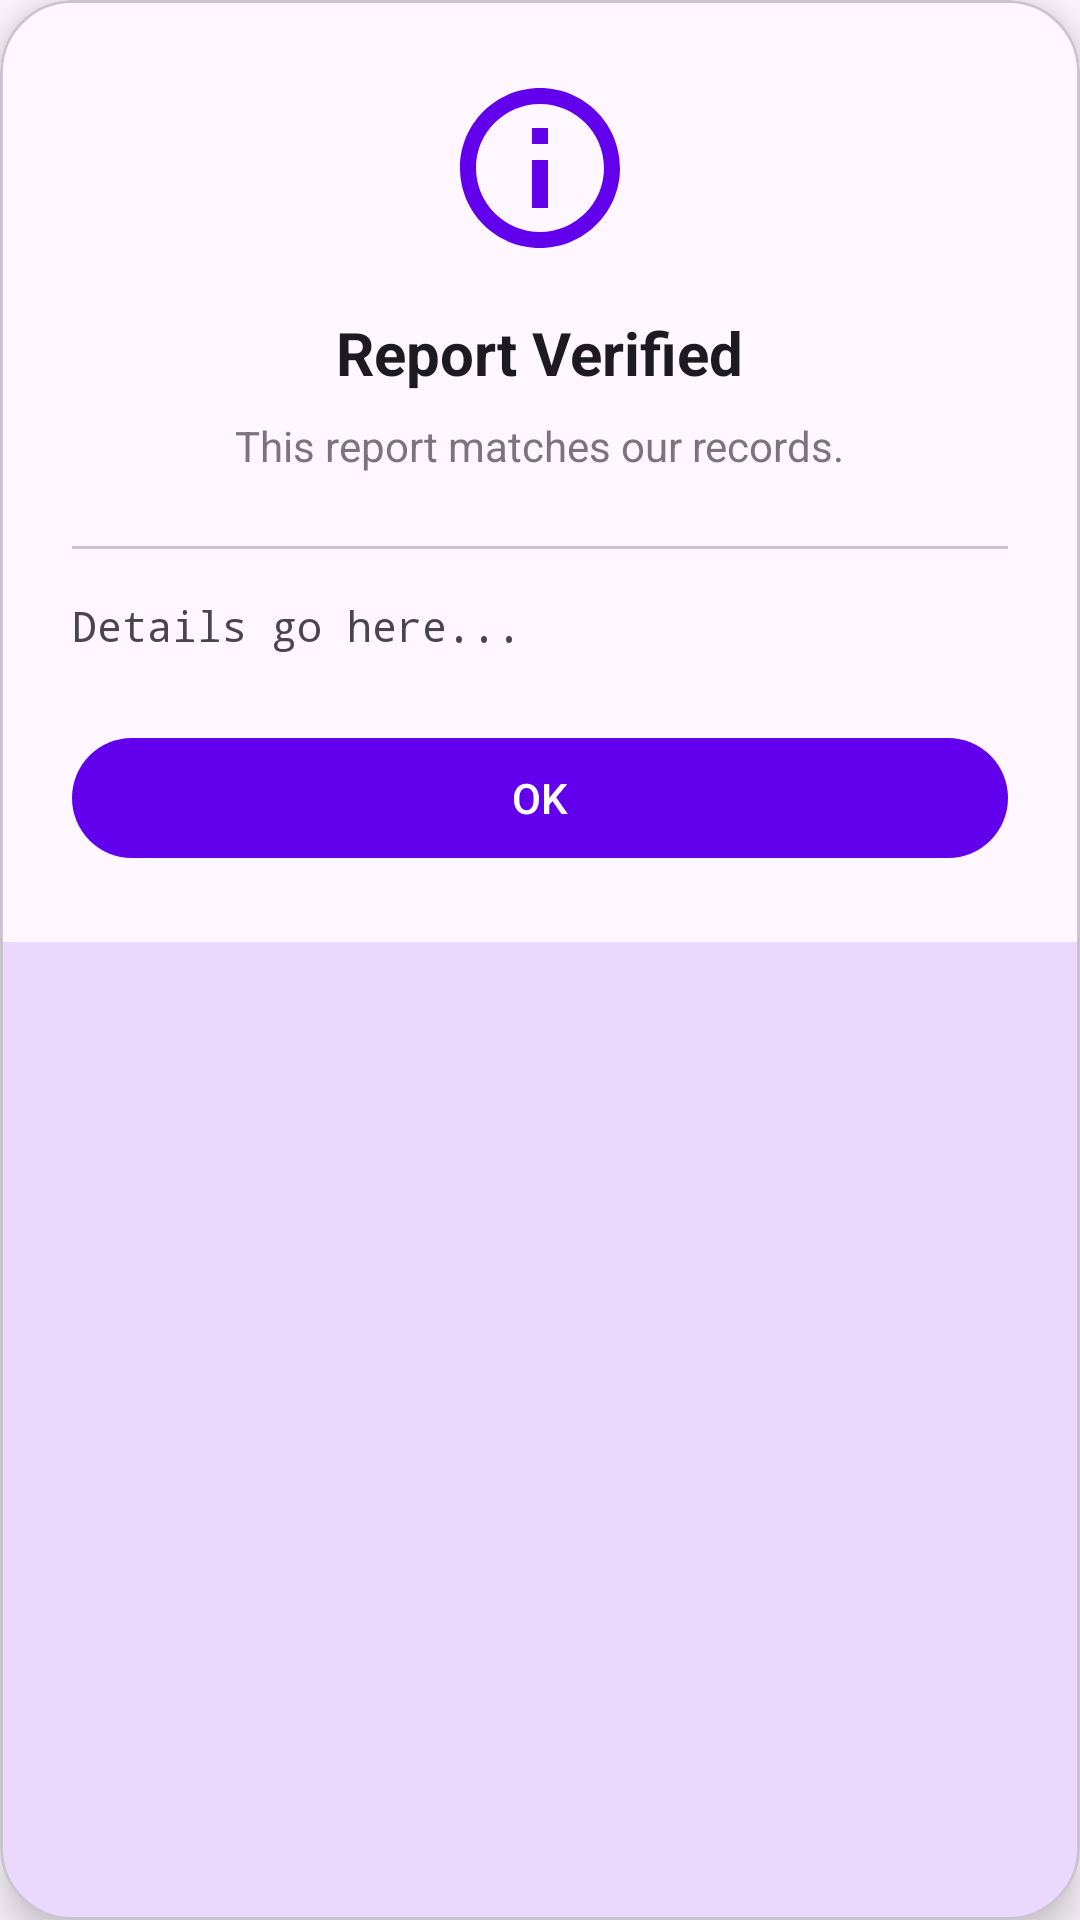

Icons on this 1080w x 1920h Android screen, each with its box as {"x1": x1, "y1": y1, "x2": x2, "y2": y2}:
Status Icon: {"x1": 459, "y1": 88, "x2": 620, "y2": 248}
